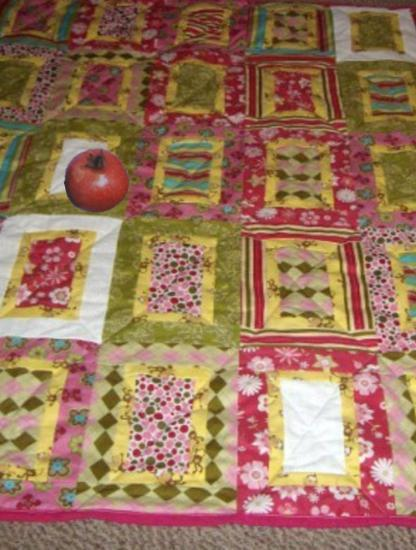Pomegranate: (64, 148, 130, 214)
